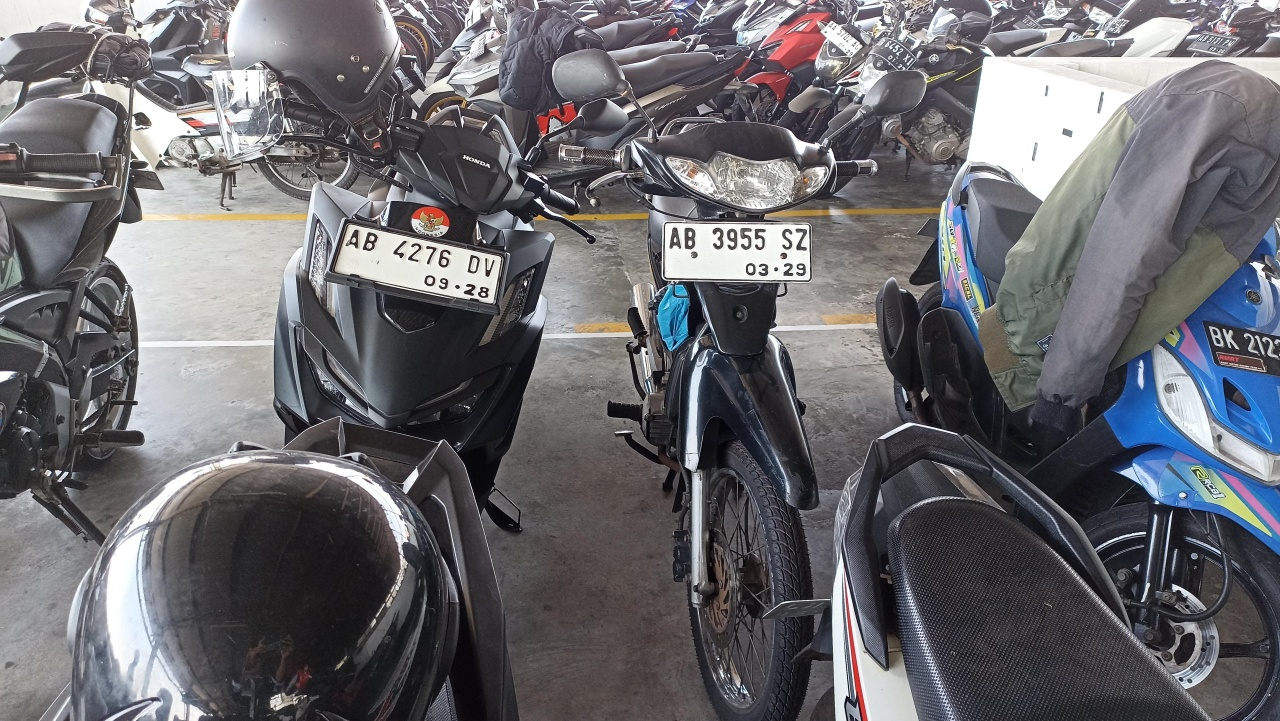plate: (328, 219, 509, 311), (663, 221, 811, 281), (869, 38, 916, 74), (820, 21, 863, 58)
